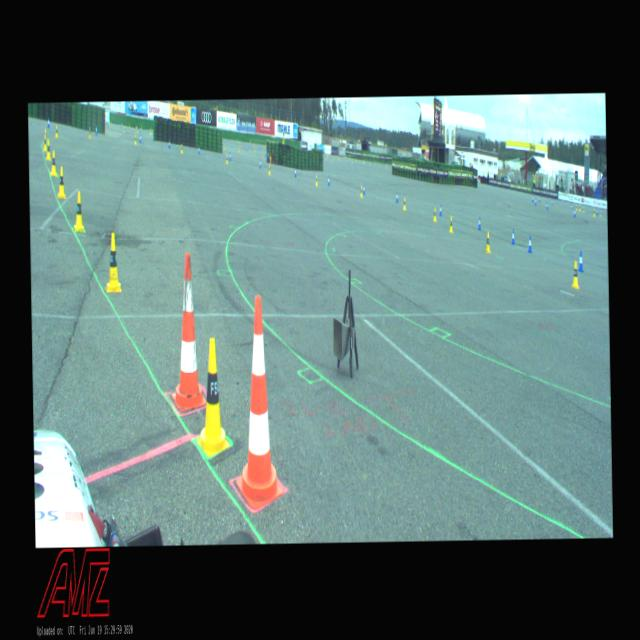blue_cone: (578, 250, 584, 271), (527, 235, 531, 252), (510, 228, 514, 244), (438, 203, 442, 216), (46, 116, 50, 128), (94, 124, 98, 136), (138, 133, 142, 143), (478, 216, 480, 228), (362, 182, 364, 194), (396, 190, 398, 202), (228, 150, 230, 161), (327, 175, 329, 185), (198, 144, 200, 154), (259, 158, 261, 168), (294, 166, 296, 176), (168, 139, 170, 148)
large_orange_cone: (232, 294, 282, 510), (169, 252, 206, 412)
yellow_cone: (194, 338, 230, 457), (105, 232, 122, 292), (73, 190, 84, 231), (56, 166, 66, 198), (570, 260, 578, 288), (50, 150, 56, 176), (45, 140, 51, 160), (485, 232, 490, 252), (432, 206, 437, 222), (449, 214, 453, 232), (43, 134, 47, 150), (54, 124, 58, 138), (402, 197, 406, 210), (314, 174, 318, 186), (225, 153, 228, 164), (134, 133, 137, 144), (360, 186, 362, 198), (88, 126, 90, 138), (268, 164, 270, 175), (180, 143, 182, 153)
